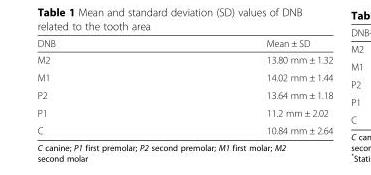table: (36, 37, 332, 135)
table column: (160, 37, 332, 135), (36, 37, 160, 135)
table column header: (36, 37, 332, 51)
table row: (36, 85, 332, 103), (36, 103, 332, 121), (36, 51, 332, 68), (36, 68, 332, 85), (36, 37, 332, 51), (36, 121, 332, 135)
